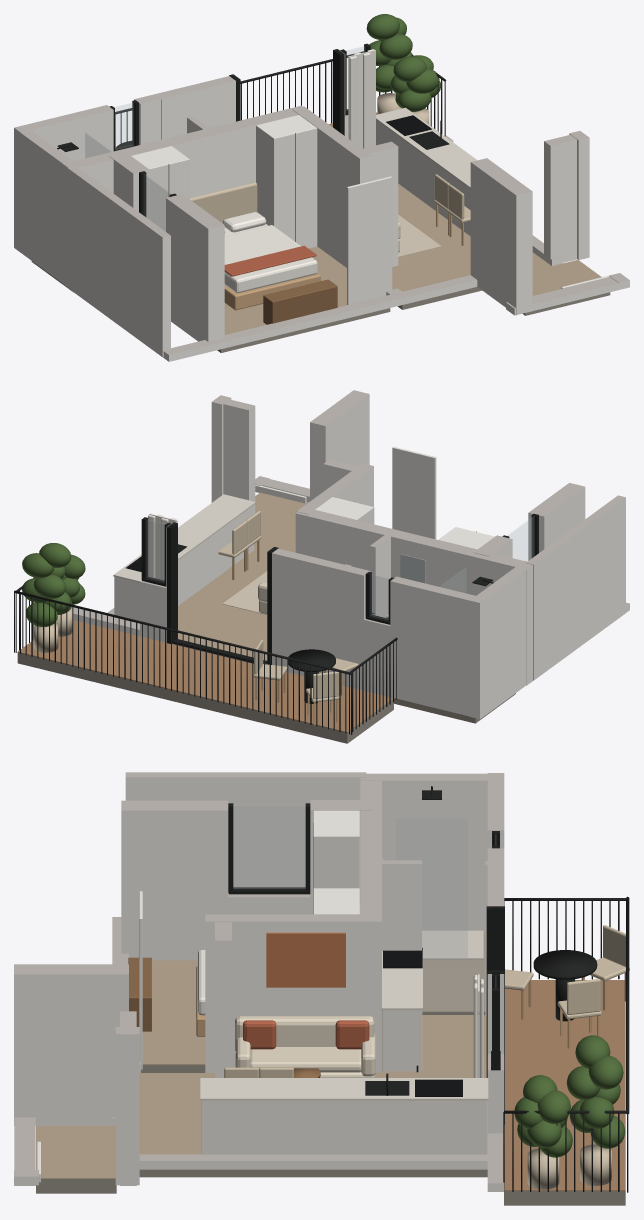
Rendered from apt-1.glb.
3 views of the same model, one above another, from view 1: azimuth 30°, elevation 25°; view 2: azimuth 150°, elevation 25°; view 3: azimuth 270°, elevation 25° (orthographic). The views are drawn at different scales.
Parts seen in each view (by area): view 1: Parapet 3, Wall vest-W, Wall bed-W.001, Wall bed-N, bedroom wardrobe right | body, Wall bath-W, bed-E door 0 | leaf, Wall bed-E, Wall S-main, Wall N-facade.001, Wall vest-N, Wall N-facade (+32 smaller); view 2: Floor | balcony, Wall N-facade, Parapet 3, Wall N-facade.001, Wall bed-N, Floor | living, Wall bath-W, Slab | balcony, Wall vest-W, Kitchen east run | bases, bed-E door 0 | leaf, Wall vest-N (+32 smaller); view 3: Wall vest-W, Wall bed-W.001, Kitchen east run | bases, Wall bath-W, Parapet 3, Floor | balcony, Wall bed-E, Floor | entry, bath shower 9 | glass, bed-W window 0 | glazing, Wall E-main, Floor | bedroom (+53 smaller).
Part boxes in pixels (x1=…): Parapet 3: x1=67, y1=166, x2=170, y2=357; Wall vest-W: x1=470, y1=158, x2=532, y2=315; Wall bed-W.001: x1=166, y1=194, x2=224, y2=341; Wall bed-N: x1=62, y1=105, x2=302, y2=287; bedroom wardrobe right | body: x1=256, y1=115, x2=317, y2=248; Wall bath-W: x1=15, y1=130, x2=81, y2=282; bed-E door 0 | leaf: x1=347, y1=176, x2=392, y2=304; Wall bed-E: x1=292, y1=106, x2=371, y2=267; Wall S-main: x1=163, y1=275, x2=477, y2=361; Wall N-facade.001: x1=134, y1=76, x2=235, y2=145; Wall vest-N: x1=544, y1=134, x2=576, y2=264; Wall N-facade: x1=14, y1=105, x2=113, y2=251; Floor | balcony: x1=18, y1=620, x2=392, y2=732; Wall N-facade: x1=390, y1=576, x2=486, y2=718; Parapet 3: x1=526, y1=495, x2=625, y2=680; Wall N-facade.001: x1=272, y1=548, x2=370, y2=690; Wall bed-N: x1=295, y1=510, x2=533, y2=685; Floor | living: x1=178, y1=555, x2=267, y2=660; Wall bath-W: x1=469, y1=560, x2=532, y2=719; Slab | balcony: x1=17, y1=652, x2=393, y2=743; Wall vest-W: x1=310, y1=390, x2=369, y2=501; Kitchen east run | bases: x1=114, y1=505, x2=254, y2=622; bed-E door 0 | leaf: x1=392, y1=446, x2=436, y2=539; Wall vest-N: x1=223, y1=399, x2=255, y2=513; Wall vest-W: x1=14, y1=964, x2=128, y2=1125; Wall bed-W.001: x1=121, y1=800, x2=228, y2=960; Kitchen east run | bases: x1=201, y1=1100, x2=487, y2=1154; Wall bath-W: x1=360, y1=773, x2=487, y2=931; Parapet 3: x1=125, y1=772, x2=366, y2=887; Floor | balcony: x1=504, y1=980, x2=625, y2=1190; Wall bed-E: x1=205, y1=914, x2=377, y2=1072; Floor | entry: x1=36, y1=1073, x2=214, y2=1178; bath shower 9 | glass: x1=396, y1=818, x2=467, y2=957; bed-W window 0 | glazing: x1=233, y1=805, x2=305, y2=888; Wall E-main: x1=139, y1=1154, x2=487, y2=1169; Floor | bedroom: x1=142, y1=960, x2=205, y2=1065.
Bounding box in the file's own units: 8.12 × 2.32 × 7.74.
